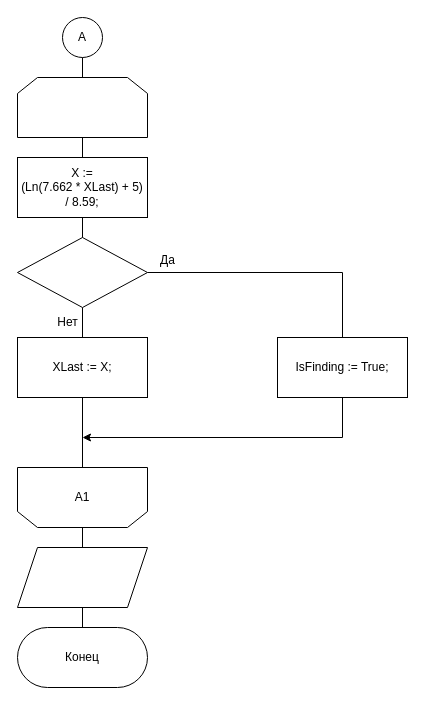
Some shapes in this 425 by 705 pixel diagram are drawn without their labels. Each missing label, with the centre of its shape:
A1 (IsFinding = False): pixel 82 107
Abs(X - XLast) < Eps: pixel 82 272
Вывод X: pixel 82 577
